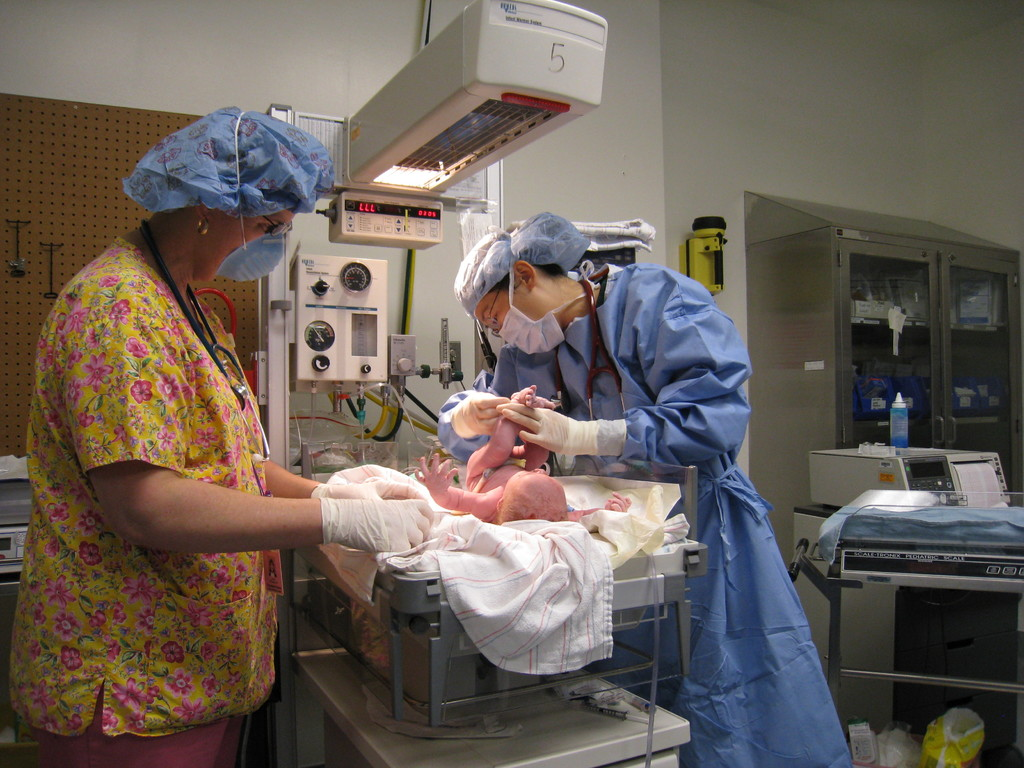Person: (9, 106, 434, 768), (438, 210, 853, 768), (416, 384, 633, 522)
